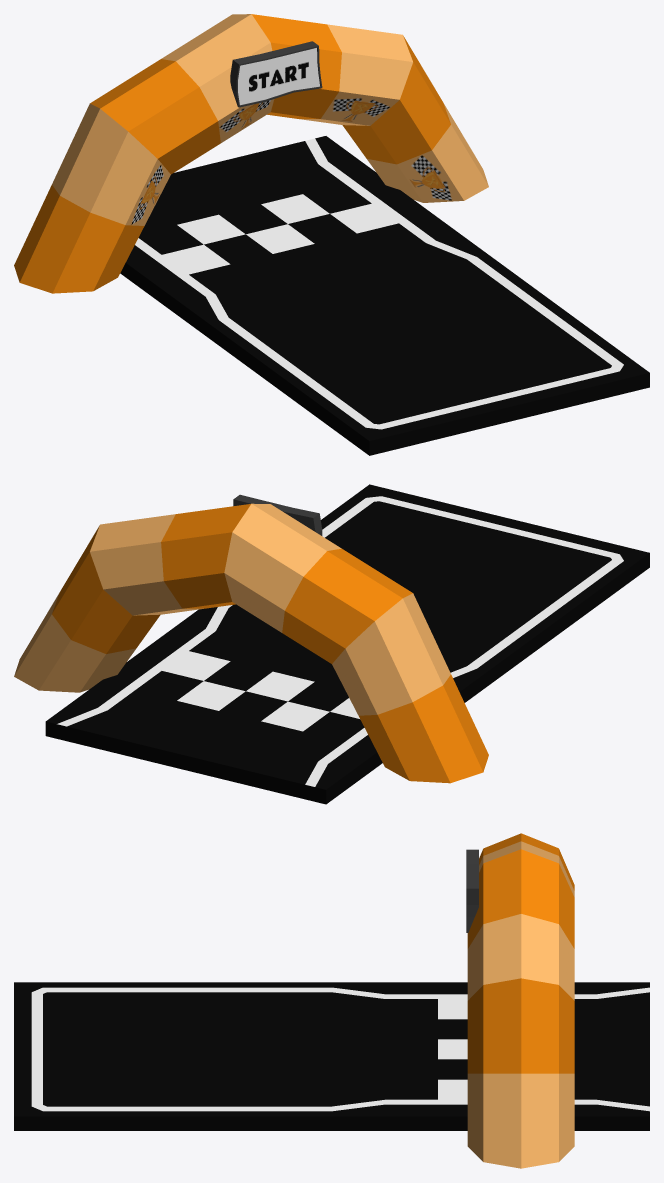
File: start2_export.fbx
3 renders of one model, top to bottom at view 1: azimuth 30°, elevation 25°; view 2: azimuth 150°, elevation 25°; view 3: azimuth 270°, elevation 25°, orthographic.
Visible parts, largest first — view 1: Torus.001, Cube.003, Cube, Cube.004; view 2: Torus.001, Cube, Cube.003, Cube.004; view 3: Cube.003, Torus.001, Cube, Cube.004.
Part boxes in pixels (bbox=[...]): Torus.001: bbox=[14, 14, 488, 293]; Cube.003: bbox=[207, 254, 649, 455]; Cube: bbox=[120, 136, 487, 336]; Cube.004: bbox=[230, 41, 322, 107]; Torus.001: bbox=[14, 503, 488, 783]; Cube: bbox=[45, 606, 487, 804]; Cube.003: bbox=[222, 484, 649, 685]; Cube.004: bbox=[233, 494, 322, 535]; Cube.003: bbox=[14, 982, 331, 1130]; Torus.001: bbox=[467, 833, 574, 1168]; Cube: bbox=[332, 982, 649, 1130]; Cube.004: bbox=[466, 849, 478, 932].
Size of the model in its own units: 33.07 by 14.89 by 40.
7 materials, 2 textured.
